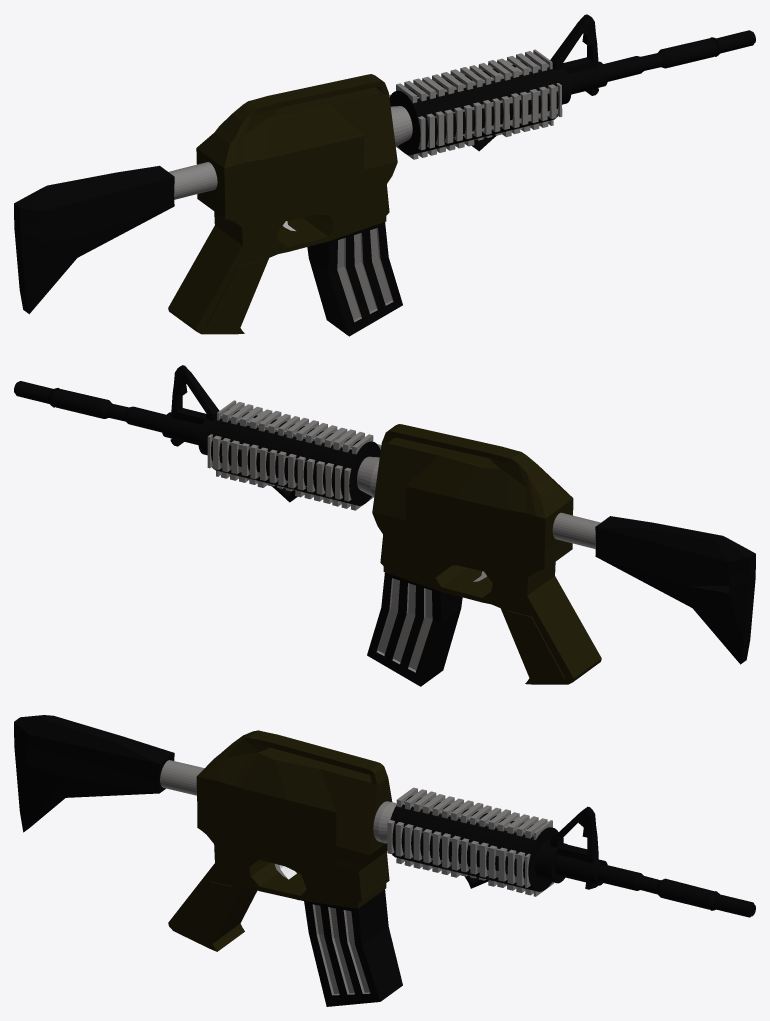
File: 140810190032_Akirareka_Senjata.fbx
3 views of the same model, one above another, from view 1: azimuth 30°, elevation 25°; view 2: azimuth 150°, elevation 25°; view 3: azimuth 330°, elevation 25° (orthographic).
Parts seen in each view (by area): view 1: 2. Tengah, 1.Depan, 4.Belakang, 5. Magazine, 3.Pipa; view 2: 2. Tengah, 1.Depan, 4.Belakang, 5. Magazine, 3.Pipa; view 3: 2. Tengah, 1.Depan, 4.Belakang, 5. Magazine, 3.Pipa.
Part boxes in pixels (bbox=[...]): 2. Tengah: bbox=[168, 74, 397, 334]; 1.Depan: bbox=[389, 14, 755, 159]; 4.Belakang: bbox=[14, 165, 174, 314]; 5. Magazine: bbox=[307, 222, 402, 336]; 3.Pipa: bbox=[169, 162, 217, 199]; 2. Tengah: bbox=[372, 424, 601, 684]; 1.Depan: bbox=[14, 365, 381, 510]; 4.Belakang: bbox=[595, 516, 755, 664]; 5. Magazine: bbox=[367, 572, 462, 686]; 3.Pipa: bbox=[552, 512, 600, 548]; 2. Tengah: bbox=[168, 730, 392, 951]; 1.Depan: bbox=[373, 787, 755, 917]; 4.Belakang: bbox=[14, 715, 174, 832]; 5. Magazine: bbox=[304, 889, 402, 1006]; 3.Pipa: bbox=[160, 760, 204, 795].
Size of the model in its own units: 216 by 70.51 by 17.85.
